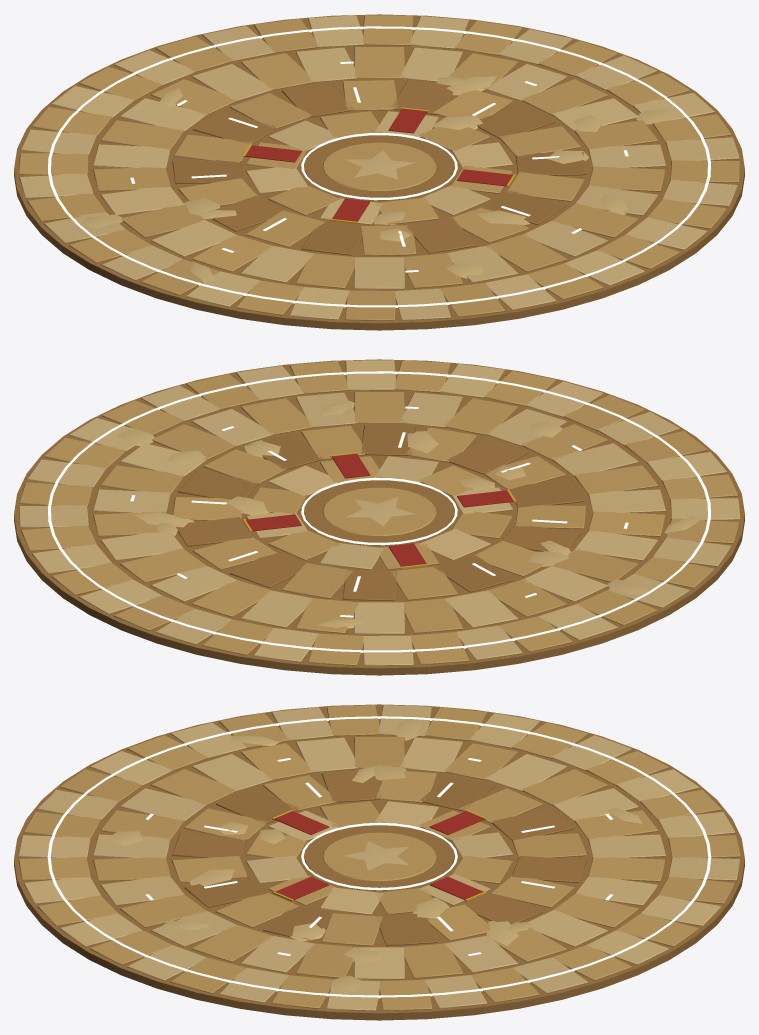
The model's file is mt_floor_2.glb.
The picture shows the model from 3 angles, top to bottom: view 1: azimuth 30°, elevation 25°; view 2: azimuth 150°, elevation 25°; view 3: azimuth 270°, elevation 25°; orthographic projection.
Parts seen in each view (by area): view 1: body, rune_glow; view 2: body, rune_glow; view 3: body, rune_glow.
Boxes of the visible parts, x1,y1,x2,y2 form: body: (14, 14, 744, 330); rune_glow: (48, 26, 710, 307); body: (14, 359, 744, 675); rune_glow: (48, 371, 710, 652); body: (14, 704, 744, 1020); rune_glow: (47, 716, 711, 998).
Size of the model in its own units: 33.2 by 0.56 by 33.2.
